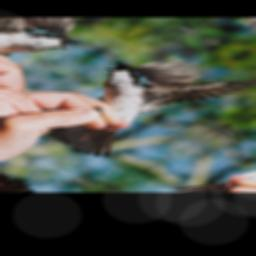Swallow: (7, 27, 256, 170)
